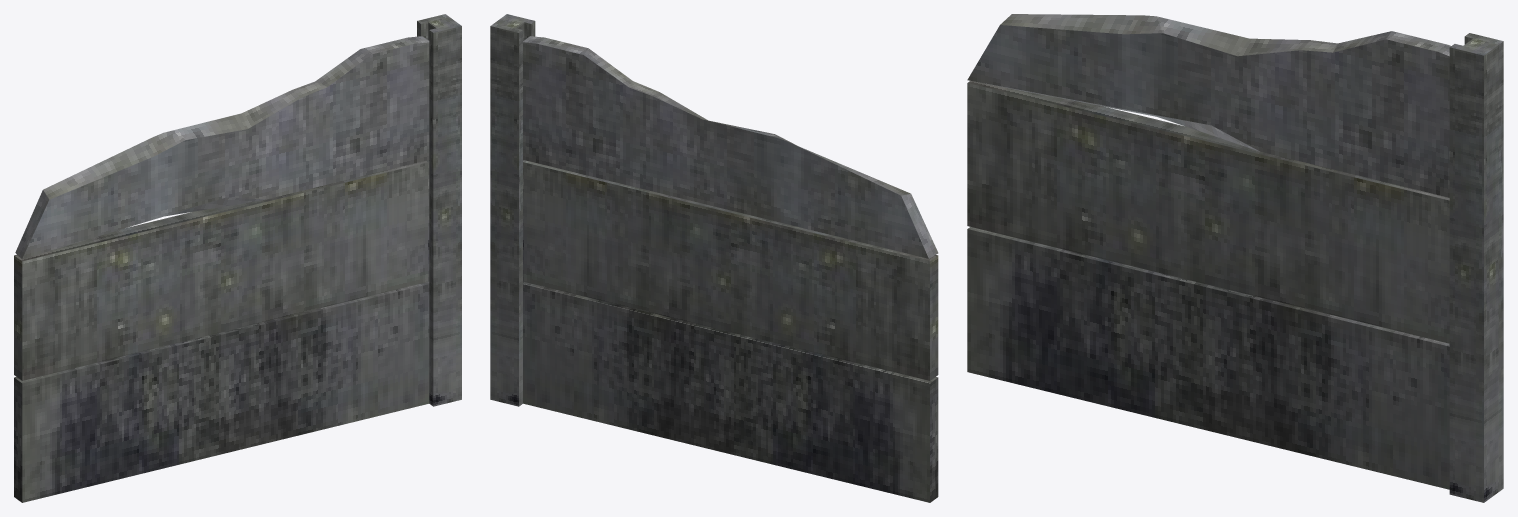
The model's file is lf_plackard_broken_b.glb.
3 views of the same model, side by side, from view 1: azimuth 30°, elevation 25°; view 2: azimuth 150°, elevation 25°; view 3: azimuth 330°, elevation 25° (orthographic). The views are drawn at different scales.
Parts seen in each view (by area): view 1: plackard_broken_alt; view 2: plackard_broken_alt; view 3: plackard_broken_alt.
Boxes of the visible parts, x1,y1,x2,y2 form: plackard_broken_alt: (14, 14, 461, 502); plackard_broken_alt: (490, 14, 938, 502); plackard_broken_alt: (967, 14, 1503, 502).
Size of the model in its own units: 3.05 by 2.5 by 0.2.
1 material, 1 textured.
